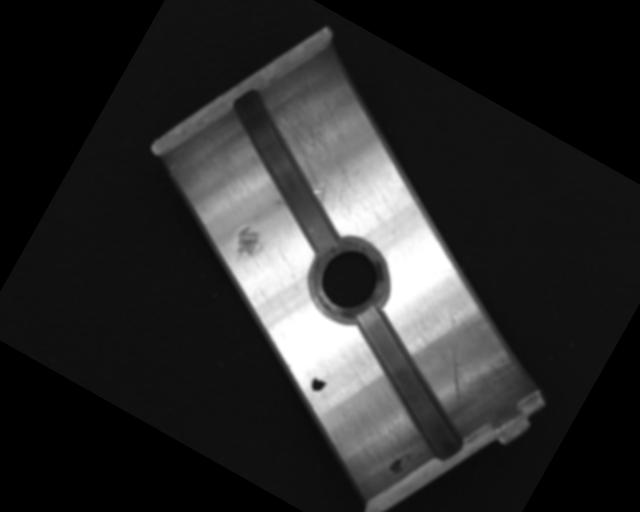blot: (387, 450, 411, 479), (307, 370, 330, 395)
bruise: (225, 222, 266, 268)
gap: (189, 85, 381, 259), (316, 302, 500, 466)
hole: (295, 227, 402, 336)
nick: (412, 310, 497, 406)
scratch: (239, 82, 390, 230)
